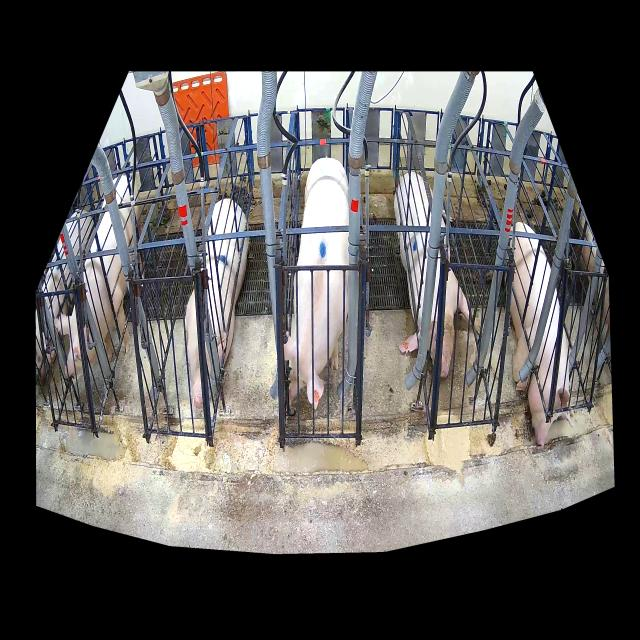pig: (283, 157, 349, 409), (61, 175, 142, 377), (394, 172, 469, 378), (511, 222, 573, 447), (185, 198, 249, 409)
